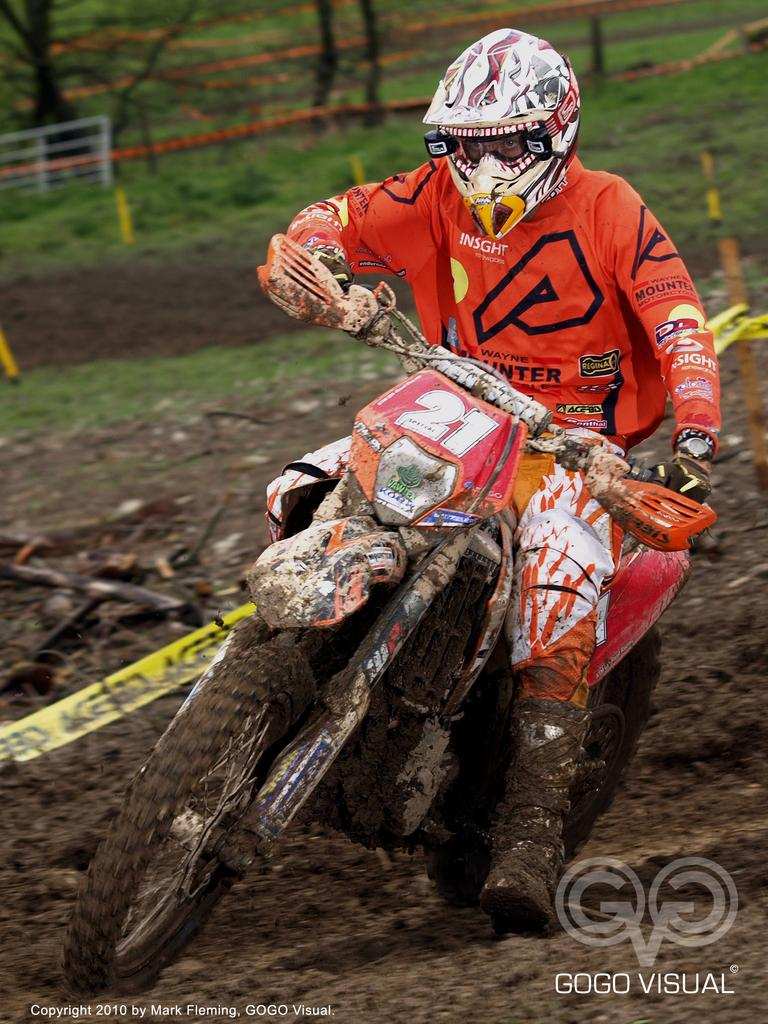helmet: (421, 27, 581, 241)
